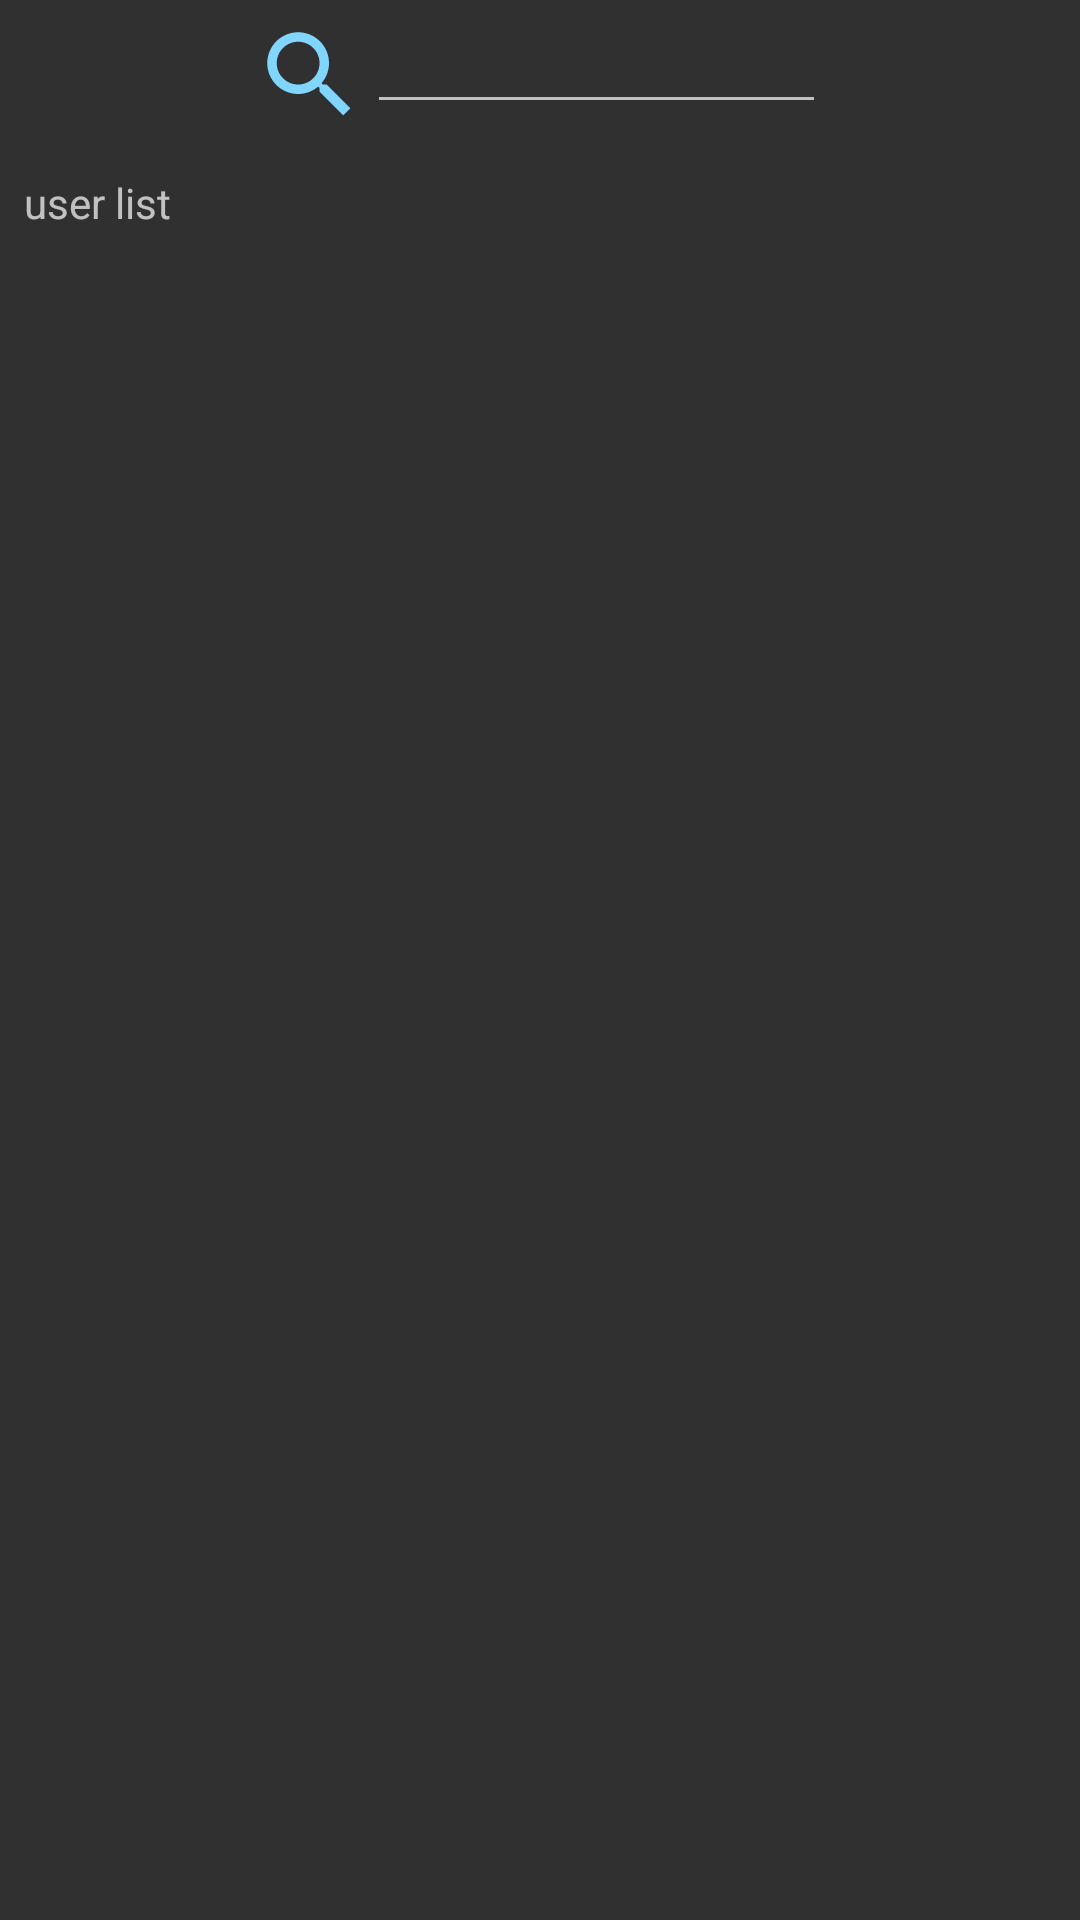

Named icons in this screenshot (1080 x 1920) and their centers, (x,y):
search: (309,74)
